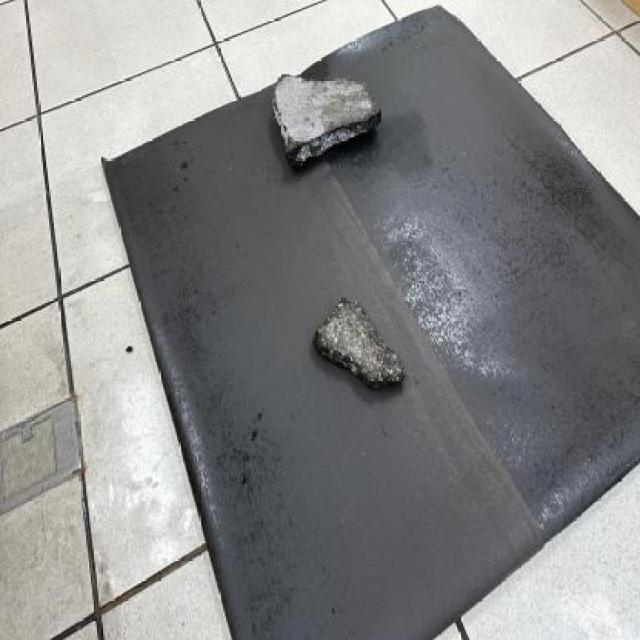Road Debris: (323, 300, 408, 378), (313, 82, 381, 124)
